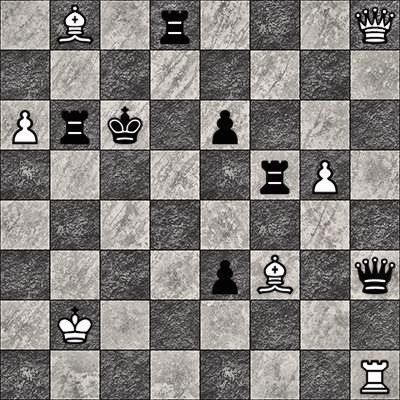black-king: (100, 100, 150, 150)
black-pawn: (200, 100, 250, 150), (200, 250, 250, 300)
black-queen: (350, 250, 400, 300)
black-rook: (150, 0, 200, 50), (50, 100, 100, 150), (250, 150, 300, 200)
white-bishop: (50, 0, 100, 50), (250, 250, 300, 300)
white-king: (50, 300, 100, 350)
white-pawn: (0, 100, 50, 150), (300, 150, 350, 200)
white-queen: (350, 0, 400, 50)
white-rook: (350, 350, 400, 400)
